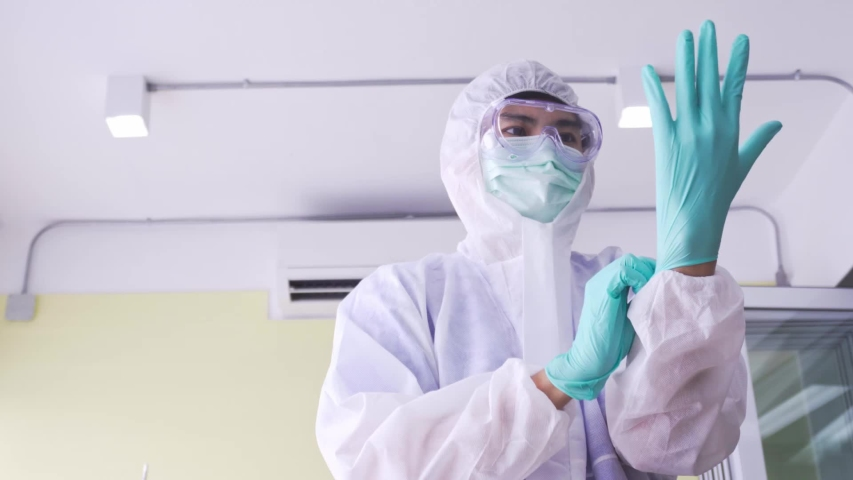Coverall: (330, 237, 731, 480)
Gloves: (637, 20, 785, 236), (548, 254, 653, 397)
Goggles: (494, 94, 604, 167)
with_mask: (489, 113, 597, 218)
